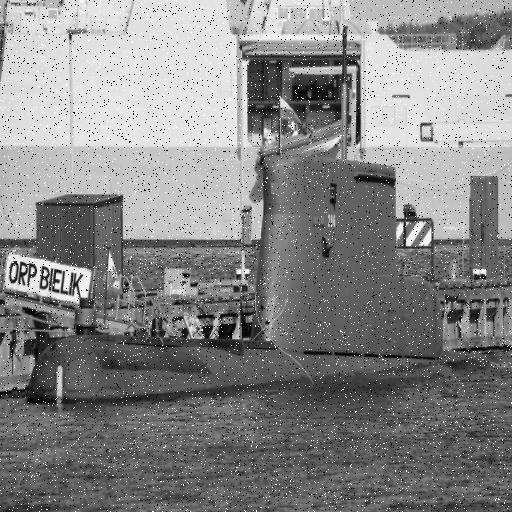submarine: (30, 148, 445, 401)
